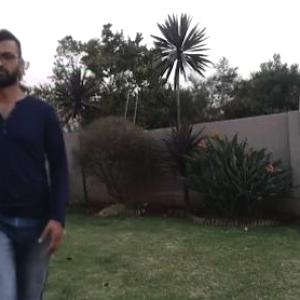follow: (1, 45, 67, 299)
